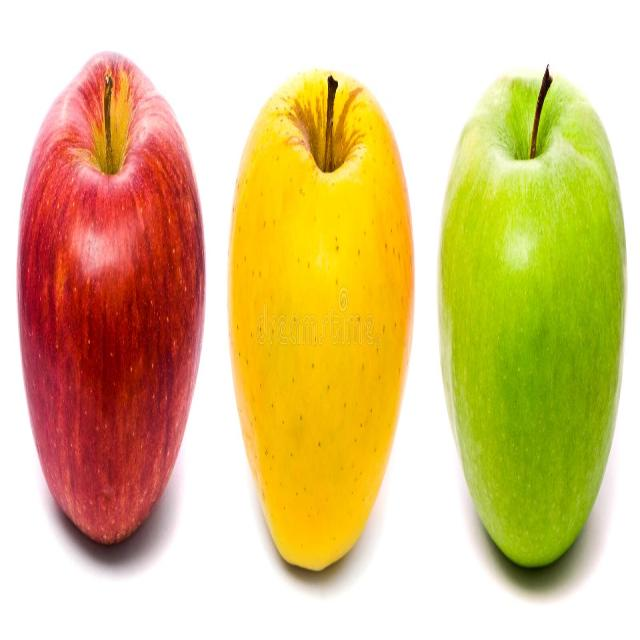Red Apple: (17, 46, 208, 567), (229, 65, 416, 567), (438, 61, 629, 545)
